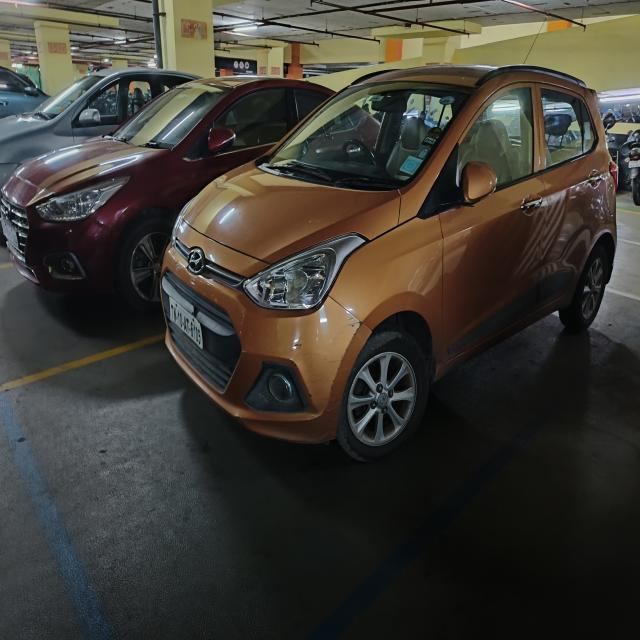scratch: (346, 314, 364, 343), (336, 348, 348, 372), (286, 356, 301, 370), (438, 206, 458, 216), (314, 406, 327, 419), (290, 342, 304, 353), (305, 385, 314, 399), (329, 378, 336, 392), (323, 356, 328, 362), (308, 220, 312, 224)
